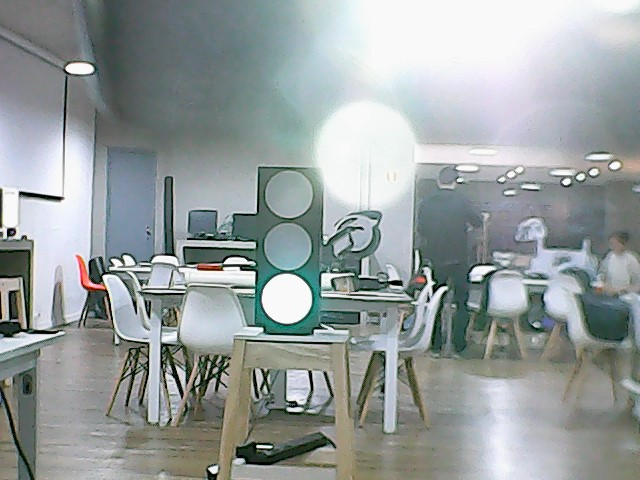verde: (251, 161, 327, 341)
